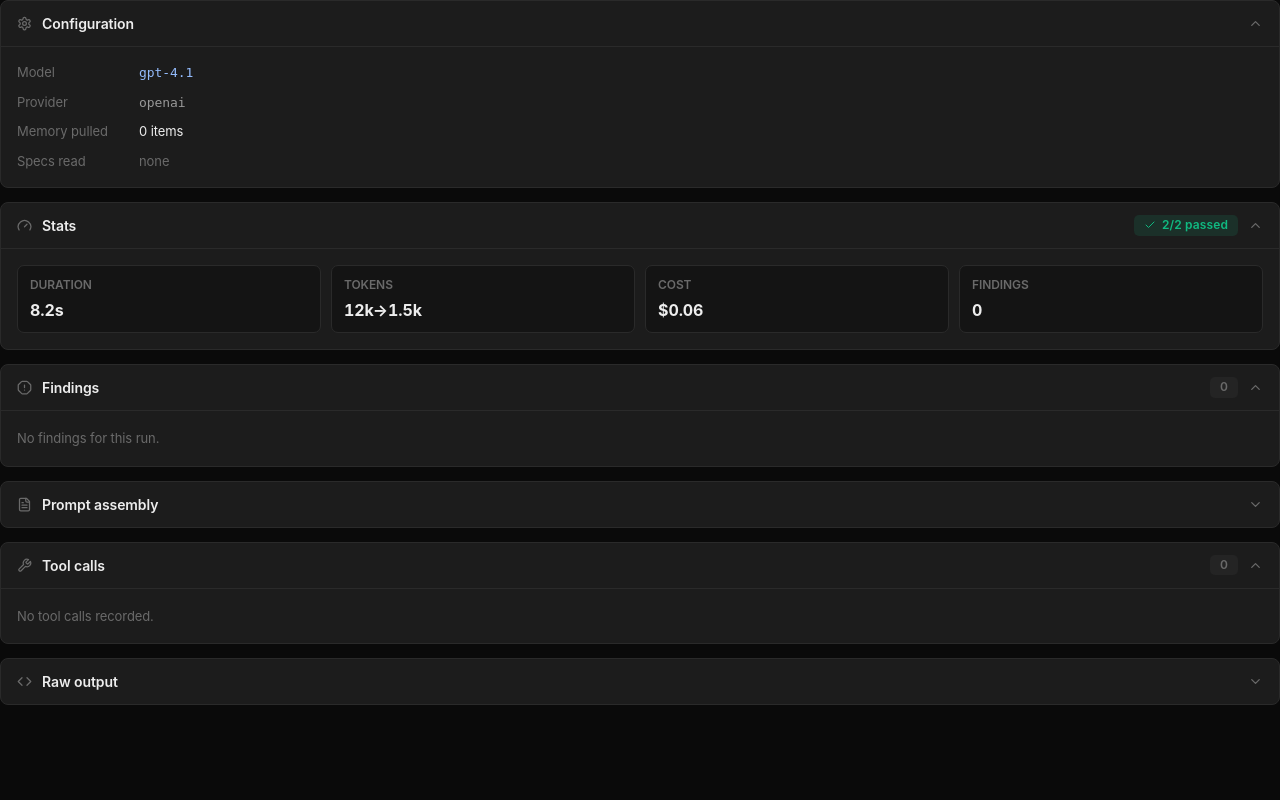
Test: TraceBody — project context attribution (A6, A9) › always shows the Project context row, with a hint when nothing is attached
The image size is (1280, 800).
Click the text "Prompt assembly".
click(100, 504)  # box top-left (42, 496), bottom-right (158, 512)
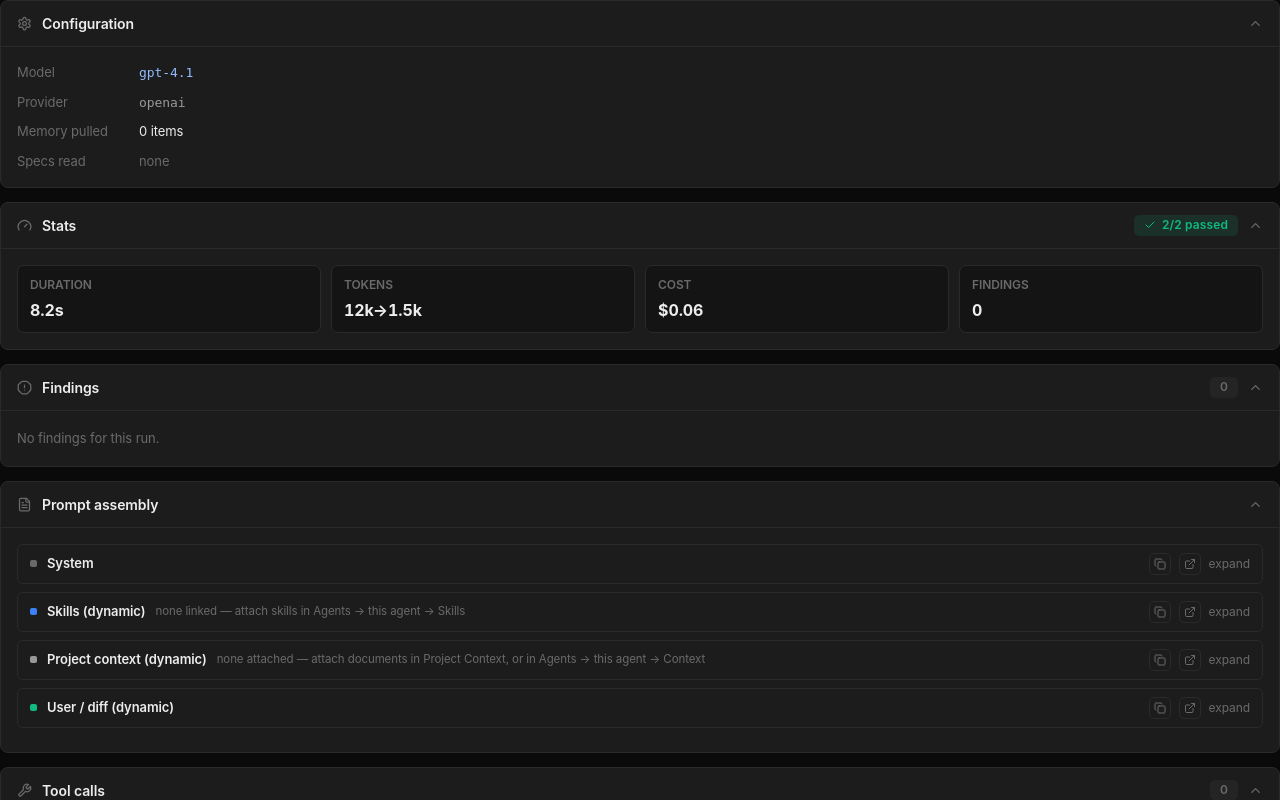
Expected: the text "Project context (dynamic)" is shown, top-left (47, 650), bottom-right (207, 669)
Expected: the text "none attached" is shown, top-left (217, 652), bottom-right (705, 666)
